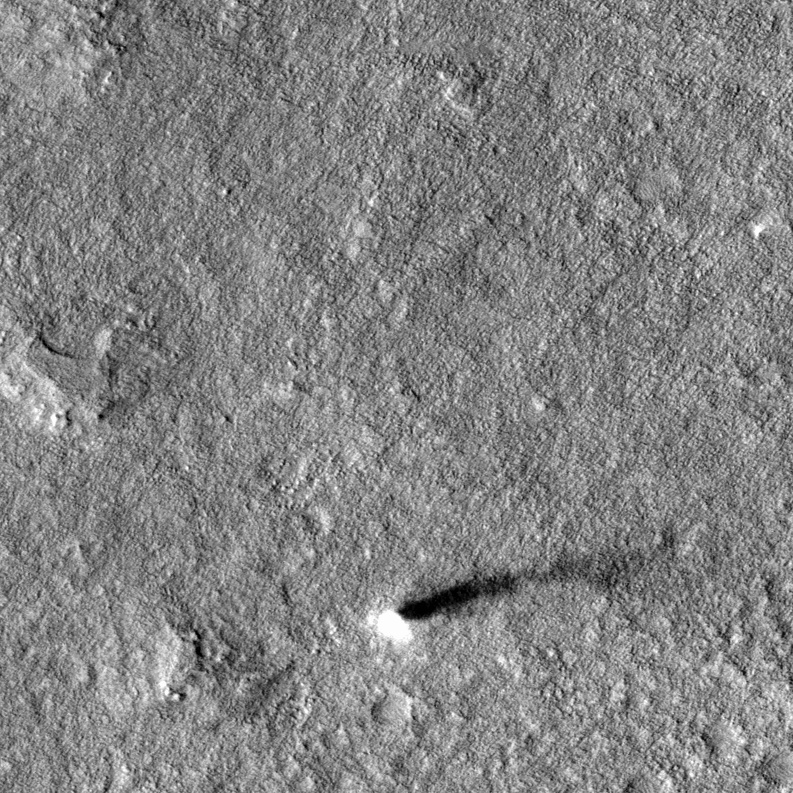dust_devil: (374, 544, 668, 648)
